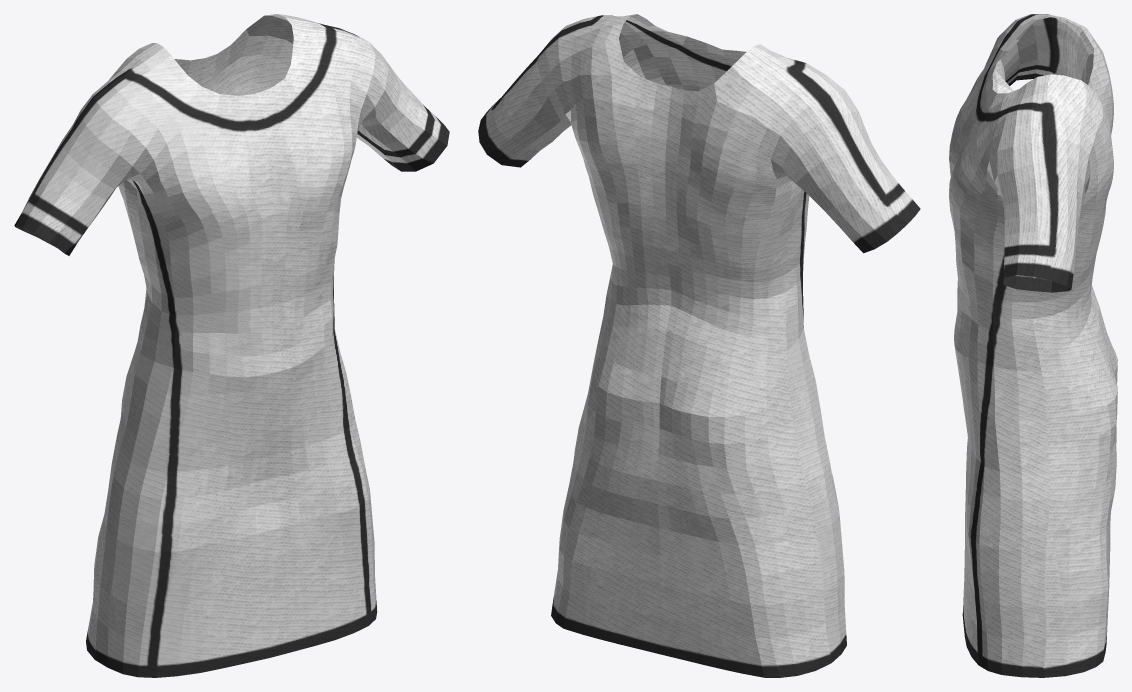
Rendered from garment.glb.
The picture shows the model from 3 angles, left to right: view 1: azimuth 30°, elevation 25°; view 2: azimuth 150°, elevation 25°; view 3: azimuth 270°, elevation 25°; orthographic projection. The views are drawn at different scales.
Visible parts, largest first — view 1: garment; view 2: garment; view 3: garment.
Boxes of the visible parts, x1,y1,x2,y2 form: garment: (14, 14, 449, 677); garment: (478, 14, 920, 677); garment: (949, 14, 1117, 677).
Size of the model in its own units: 7.16 by 9.62 by 2.58.
1 material, 1 textured.
